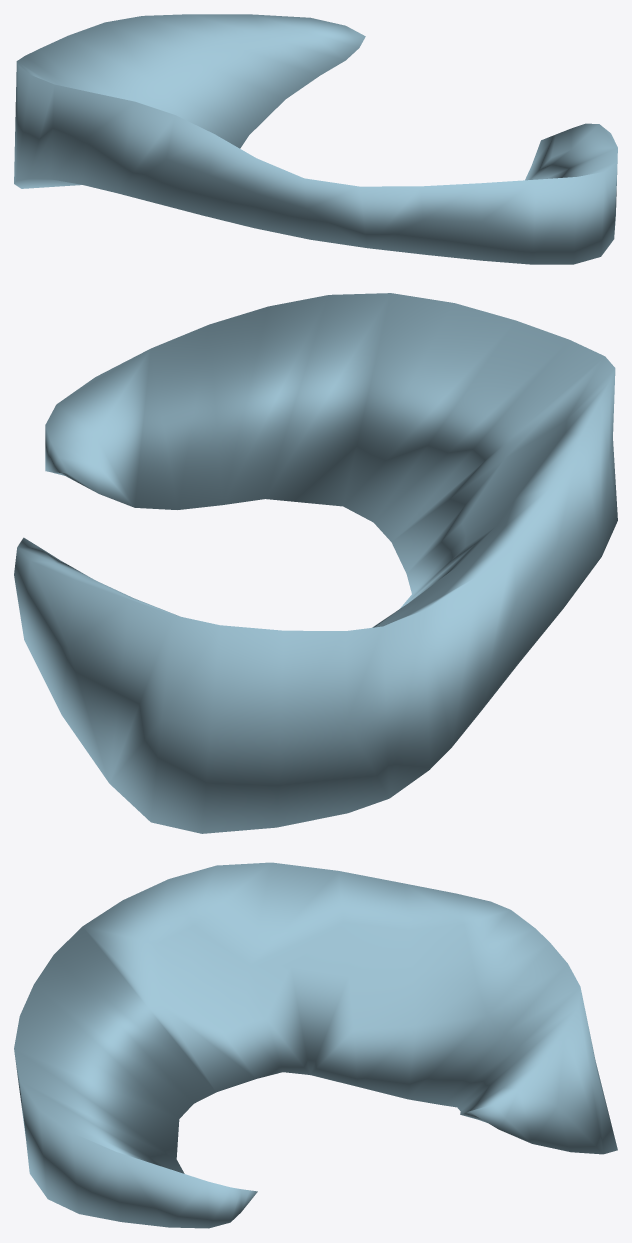
File: articulacoes-lateral-meniscus-r.glb
The picture shows the model from 3 angles, top to bottom: view 1: azimuth 30°, elevation 25°; view 2: azimuth 150°, elevation 25°; view 3: azimuth 270°, elevation 25°; orthographic projection. The views are drawn at different scales.
Parts seen in each view (by area): view 1: Lateral meniscus.r; view 2: Lateral meniscus.r; view 3: Lateral meniscus.r.
Part boxes in pixels (x1,y1,x2,y2): Lateral meniscus.r: (14,14,617,264); Lateral meniscus.r: (14,293,617,833); Lateral meniscus.r: (14,862,617,1228).
Size of the model in its own units: 0.0338 by 0.0153 by 0.0387.
